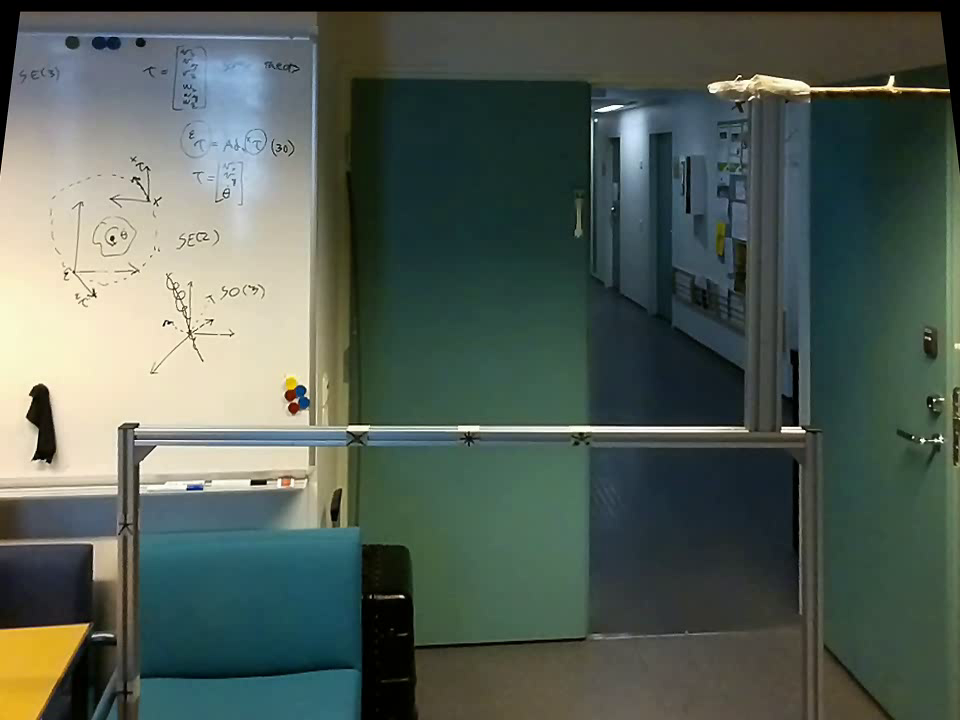aluminum_frame: (134, 423, 805, 452), (741, 100, 787, 433), (112, 419, 145, 710), (797, 420, 829, 719)
branch: (819, 66, 945, 109)
